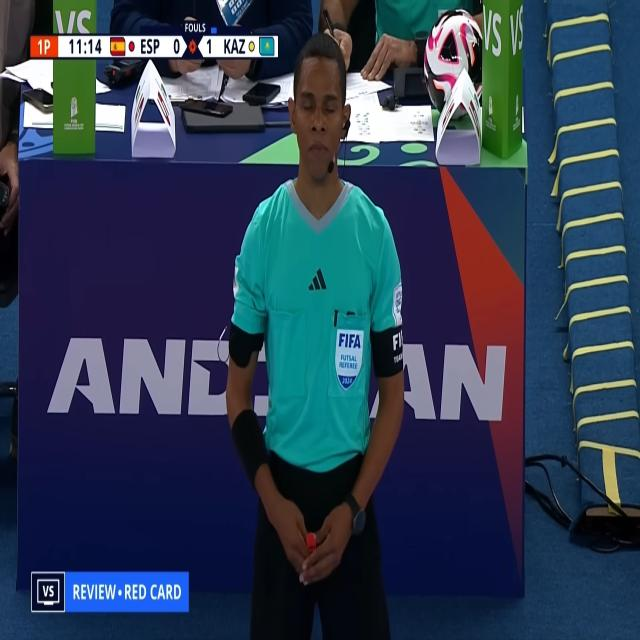Referee: (224, 29, 406, 640)
